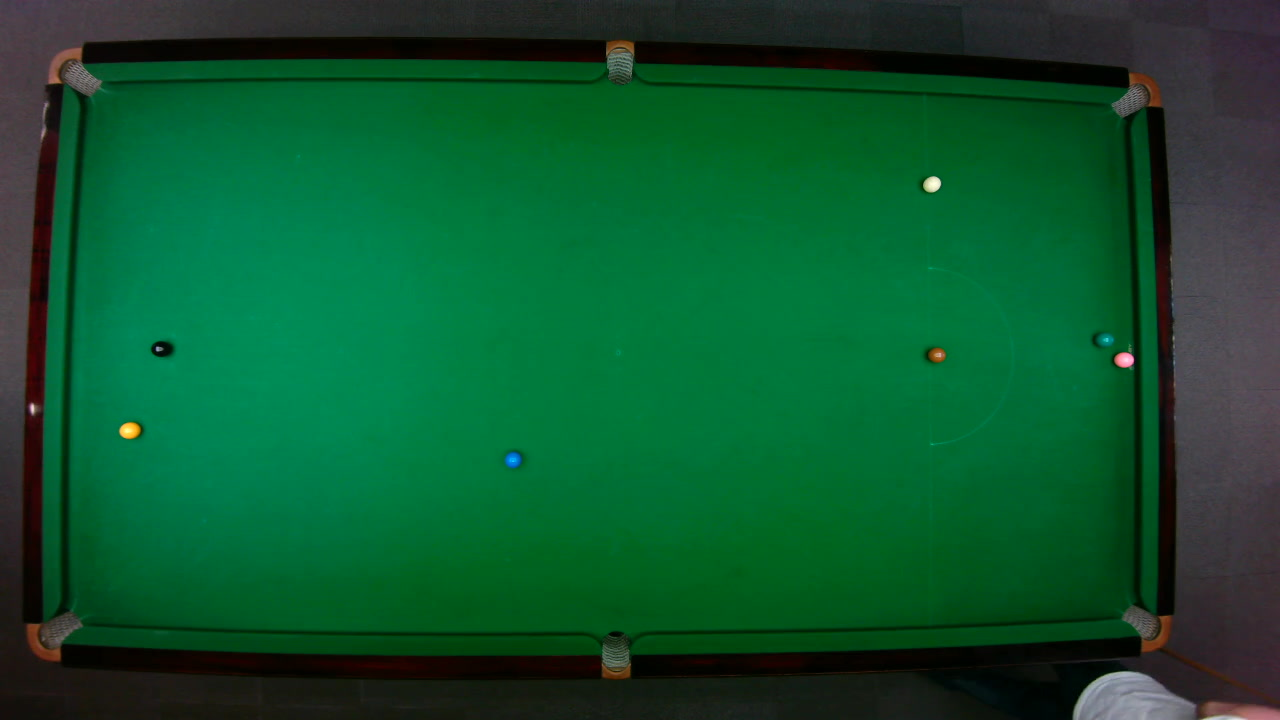bag: (24, 609, 83, 661), (45, 46, 101, 97), (1119, 603, 1171, 652), (1108, 71, 1161, 118), (600, 629, 630, 680), (605, 38, 633, 85)
black: (149, 339, 171, 357)
blue: (504, 450, 522, 468)
brown: (926, 346, 946, 362)
green: (1093, 330, 1114, 347)
pink: (1112, 350, 1135, 368)
white: (921, 174, 941, 192)
yellow: (117, 420, 142, 439)
zone: (926, 266, 1014, 445)
